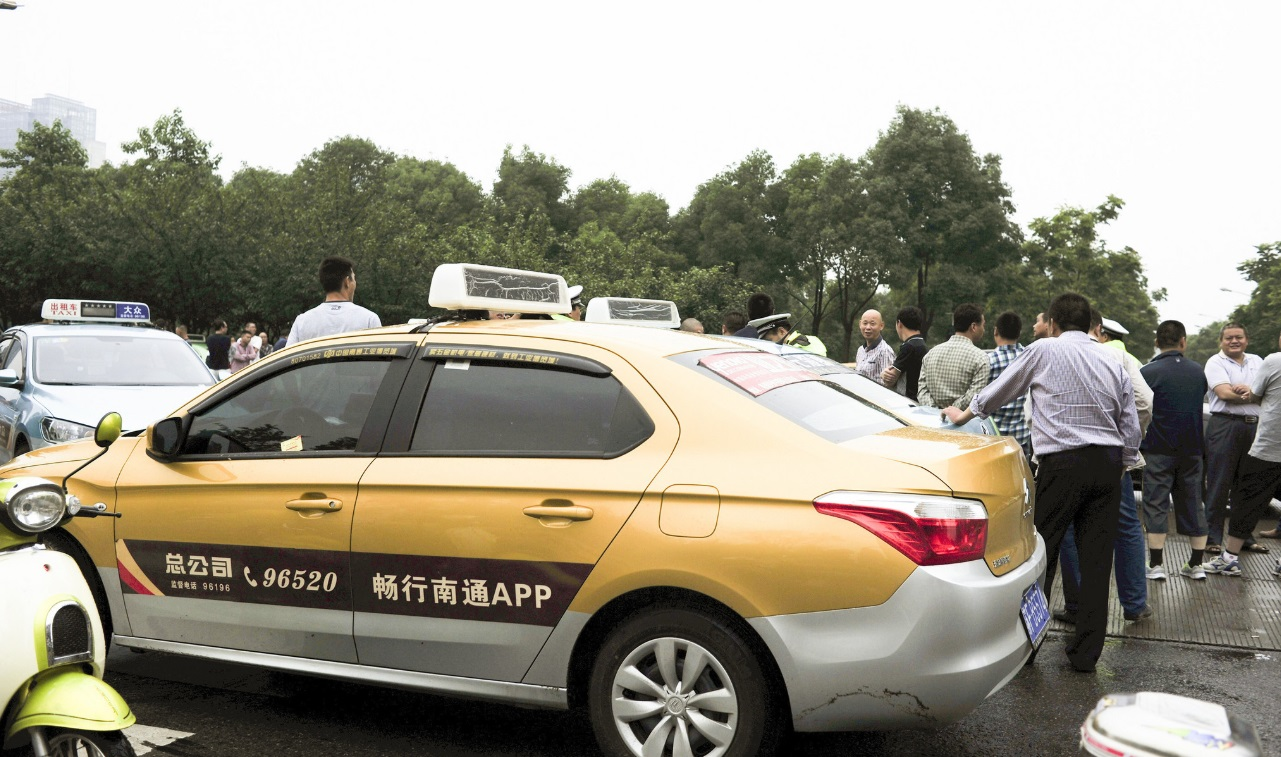taxi: (1, 269, 1055, 757)
